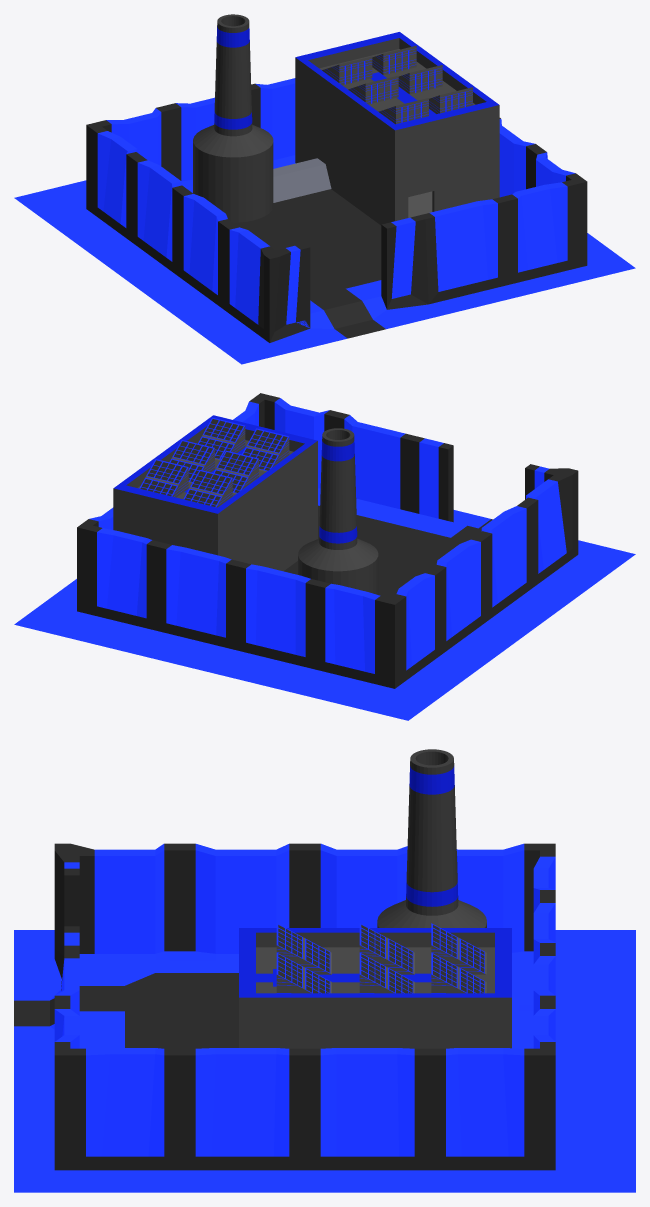
The model's file is Terran_PowerField_Tower.fbx.
The picture shows the model from 3 angles, top to bottom: view 1: azimuth 30°, elevation 25°; view 2: azimuth 150°, elevation 25°; view 3: azimuth 270°, elevation 25°; orthographic projection. The views are drawn at different scales.
Parts seen in each view (by area): view 1: Base, House, Chimney, Solar Panel, Connector; view 2: Base, House, Chimney, Solar Panel, Solar Panel_pallete; view 3: Base, House, Chimney, Solar Panel, Solar Panel_pallete.
Boxes of the visible parts, x1=… form: Base: x1=14, y1=78, x2=635, y2=364; House: x1=295, y1=32, x2=499, y2=225; Chimney: x1=193, y1=14, x2=273, y2=222; Solar Panel: x1=322, y1=45, x2=472, y2=124; Connector: x1=273, y1=158, x2=331, y2=202; Base: x1=14, y1=393, x2=635, y2=720; House: x1=113, y1=415, x2=317, y2=571; Chimney: x1=298, y1=428, x2=378, y2=594; Solar Panel: x1=139, y1=417, x2=289, y2=507; Solar Panel_pallete: x1=243, y1=430, x2=289, y2=470; Base: x1=14, y1=843, x2=635, y2=1192; House: x1=239, y1=928, x2=511, y2=1048; Chimney: x1=377, y1=749, x2=486, y2=927; Solar Panel: x1=276, y1=923, x2=486, y2=993; Solar Panel_pallete: x1=276, y1=927, x2=331, y2=974.
Size of the model in its own units: 413 by 196 by 413.
